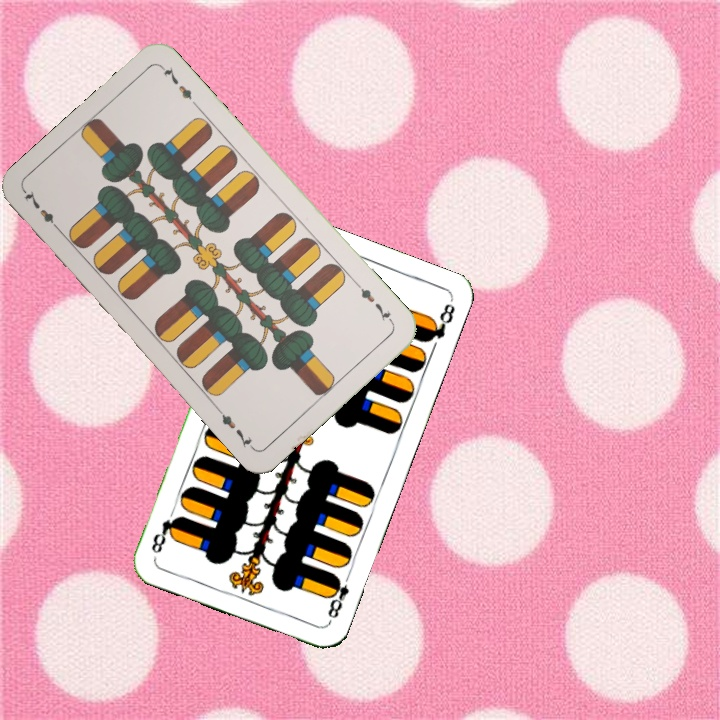E7: (20, 186, 64, 235), (352, 279, 396, 327)
E8: (323, 569, 353, 621)
